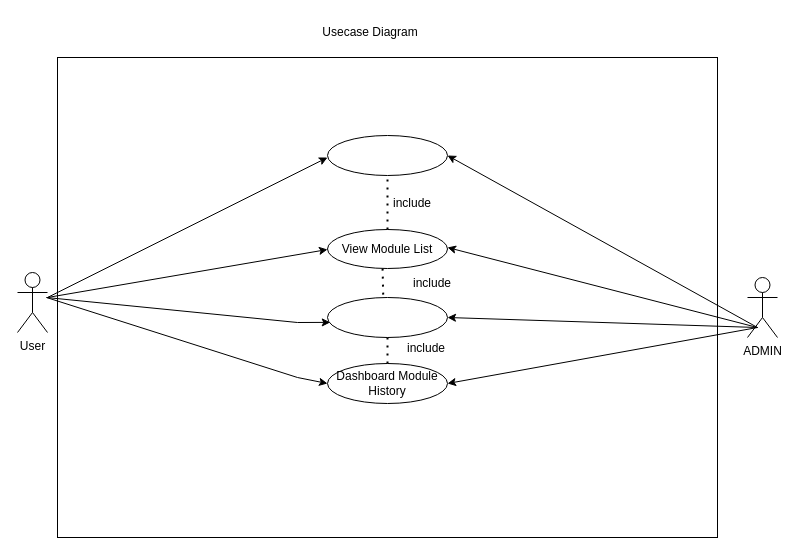
The diagram is 799 pixels wide and 555 high, and some of its shapes have lost their labels. The centre of each missing label's shape, as x and y in pixels:
"Create Module" goes at point 387,155.
"Track Module Changes" goes at point 387,317.
